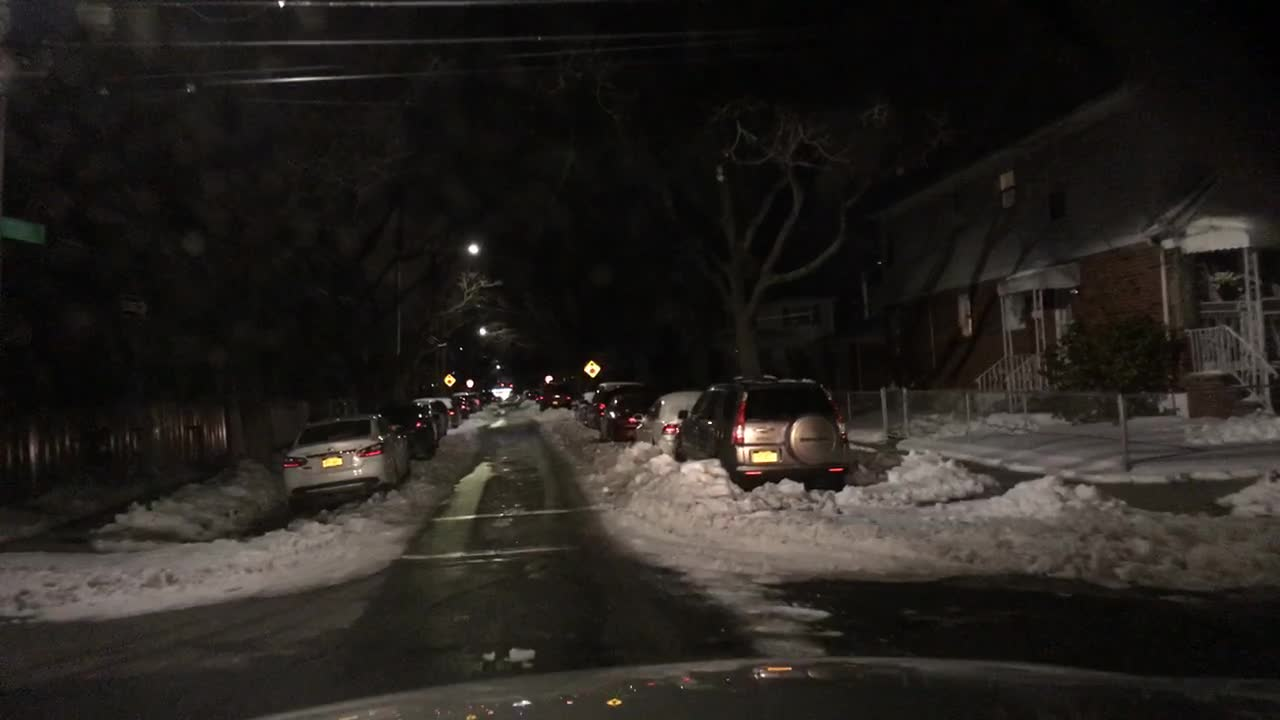car: (677, 378, 849, 496), (281, 414, 408, 510), (631, 391, 706, 449), (385, 404, 440, 460), (586, 380, 645, 431), (597, 395, 657, 442), (414, 399, 451, 434), (541, 380, 568, 413), (572, 390, 596, 422), (437, 398, 461, 426), (456, 395, 476, 416), (467, 391, 491, 406), (492, 386, 510, 406), (531, 391, 541, 401), (522, 390, 531, 401)
traffic sign: (0, 215, 46, 240), (118, 295, 148, 316), (581, 360, 597, 376), (444, 375, 454, 386), (465, 380, 475, 390)
